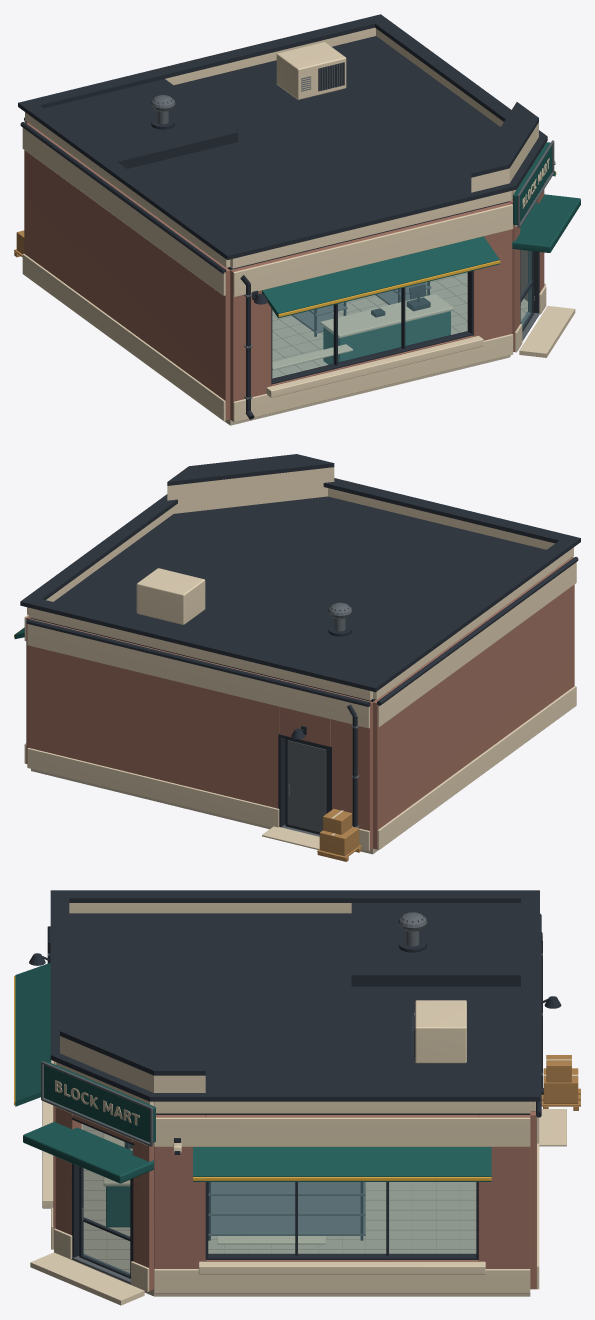
Rendered from block-mart-lod.glb.
3 views of the same model, one above another, from view 1: azimuth 30°, elevation 25°; view 2: azimuth 150°, elevation 25°; view 3: azimuth 270°, elevation 25° (orthographic). The views are drawn at different scales.
Parts seen in each view (by area): view 1: roof-navy, shell-brick-base, shell-cream, roof-cream, glass-shop-glass, shell-teal, interior-floor, shell-navy, interior-teal, interior-cream, shell-metal, roof-metal (+4 smaller); view 2: roof-navy, shell-brick-base, shell-cream, roof-cream, inset steel panel, shell-navy, interior-cardboard, interior-floor, steel door leaf; view 3: roof-navy, shell-cream, shell-teal, shell-brick-base, glass-shop-glass, roof-cream, interior-floor, shell-metal, shell-navy, door glass, interior-grout, interior-cardboard (+3 smaller).
Part boxes in pixels (box(x1,y1,x2,y2)): roof-navy: box(18, 14, 547, 273); shell-brick-base: box(24, 122, 544, 421); shell-cream: box(22, 122, 575, 422); roof-cream: box(25, 27, 538, 268); glass-shop-glass: box(272, 272, 466, 377); shell-teal: box(262, 142, 580, 318); interior-floor: box(224, 272, 527, 425); shell-navy: box(240, 161, 555, 419); interior-teal: box(323, 311, 450, 364); interior-cream: box(320, 294, 453, 338); shell-metal: box(244, 140, 554, 399); roof-metal: box(150, 63, 344, 124); roof-navy: box(20, 454, 580, 706); shell-brick-base: box(26, 557, 574, 850); shell-cream: box(24, 556, 576, 850); roof-cream: box(27, 467, 573, 700); inset steel panel: box(287, 740, 326, 832); shell-navy: box(278, 704, 357, 826); interior-cardboard: box(317, 808, 361, 861); interior-floor: box(31, 769, 378, 854); steel door leaf: box(285, 738, 329, 834); roof-navy: box(50, 890, 541, 1117); shell-cream: box(30, 1060, 566, 1305); shell-teal: box(15, 963, 491, 1183); shell-brick-base: box(53, 1061, 536, 1291); glass-shop-glass: box(82, 1124, 475, 1252); roof-cream: box(54, 903, 535, 1113); interior-floor: box(71, 1124, 530, 1296); shell-metal: box(41, 953, 542, 1283); shell-navy: box(29, 926, 561, 1261); door glass: box(82, 1168, 129, 1274); interior-grout: box(83, 1125, 476, 1269); interior-cardboard: box(541, 1055, 580, 1110).
Size of the model in its own units: 11.22 by 5.42 by 12.05.
